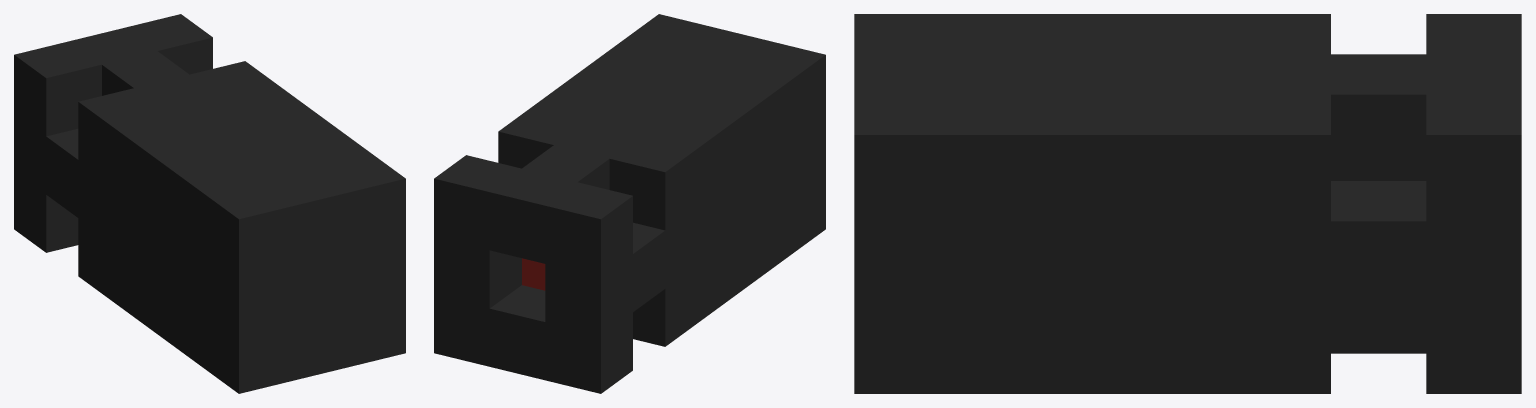
File: P3_Municion.obj
3 views of the same model, side by side, from view 1: azimuth 30°, elevation 25°; view 2: azimuth 150°, elevation 25°; view 3: azimuth 270°, elevation 25° (orthographic). The views are drawn at different scales.
Visible parts, largest first — view 1: Model; view 2: Model; view 3: Model.
Boxes of the visible parts, bbox=[...] form: Model: bbox=[14, 14, 405, 393]; Model: bbox=[434, 14, 825, 393]; Model: bbox=[854, 14, 1521, 393].
Size of the model in its own units: 10.67 by 10.67 by 24.89.
1 material, 1 textured.
